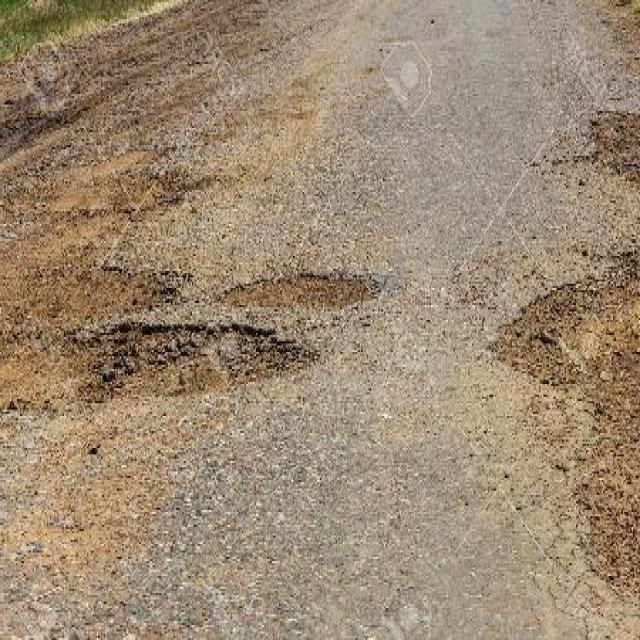Pothole: (487, 246, 640, 411), (71, 317, 317, 415), (220, 268, 385, 313), (586, 105, 640, 188)
